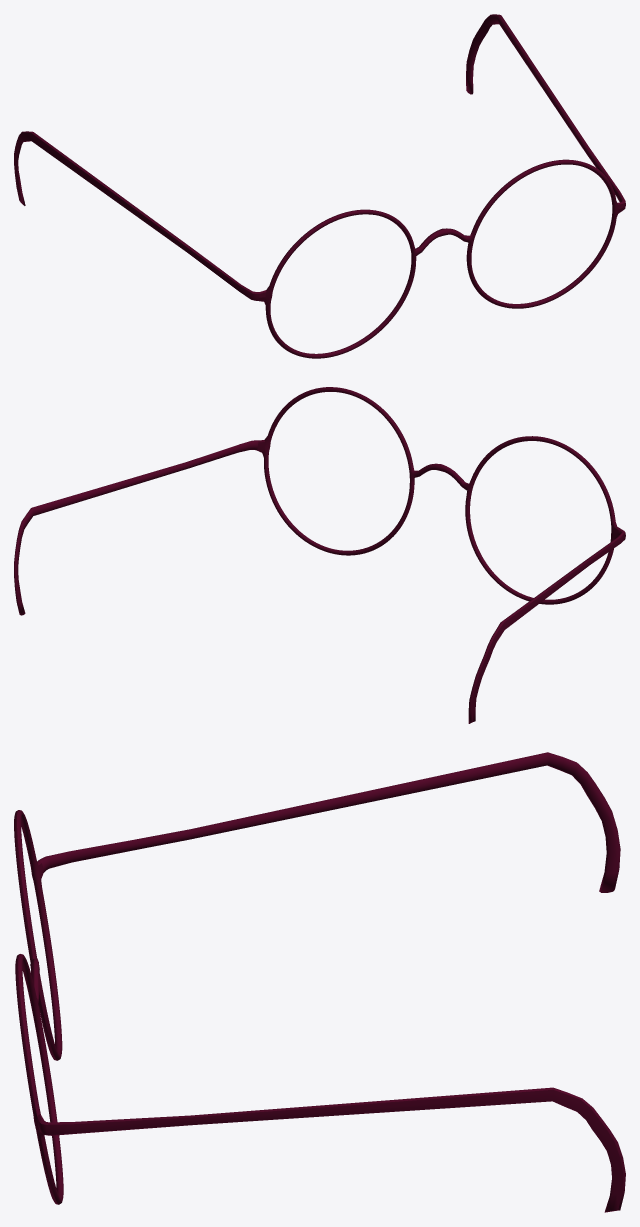
File: SM_Glasses_2.fbx
3 renders of one model, top to bottom at view 1: azimuth 30°, elevation 25°; view 2: azimuth 150°, elevation 25°; view 3: azimuth 270°, elevation 25°, orthographic. The views are drawn at different scales.
Visible parts, largest first — view 1: Glasses_2; view 2: Glasses_2; view 3: Glasses_2.
Part boxes in pixels (bbox=[...]): Glasses_2: bbox=[14, 14, 625, 358]; Glasses_2: bbox=[14, 387, 625, 723]; Glasses_2: bbox=[14, 752, 625, 1212].
Size of the model in its own units: 13.81 by 4.31 by 10.52.
